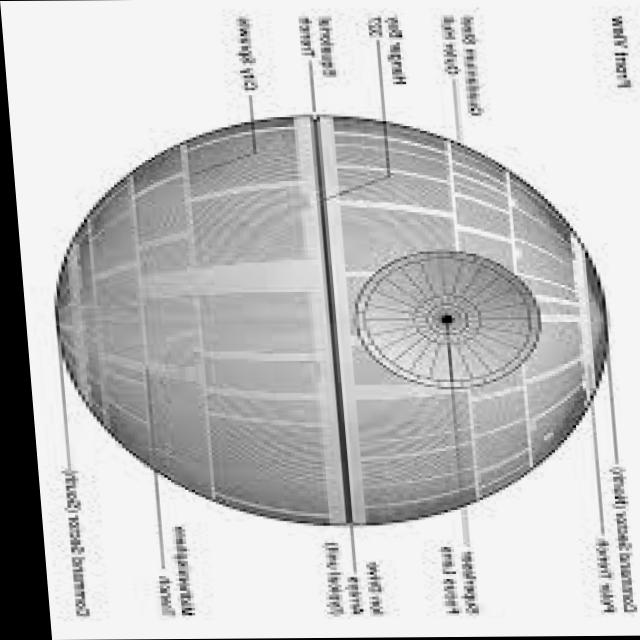deathStar: (43, 122, 618, 526)
